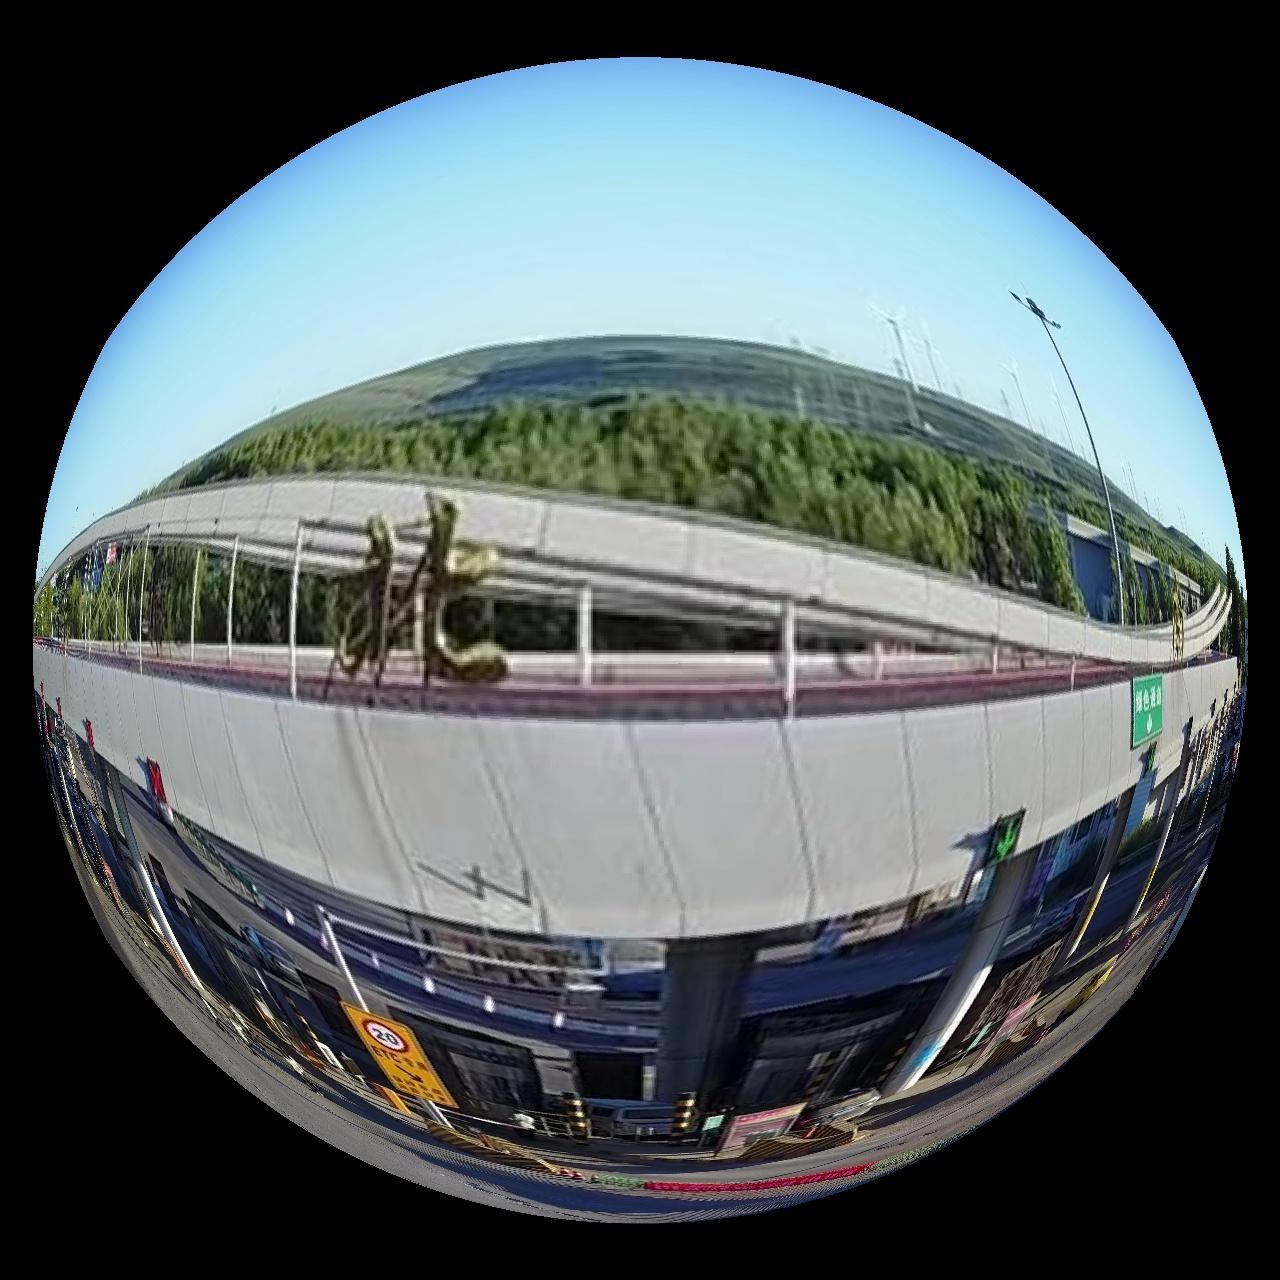building: (33, 477, 1245, 1220)
cars: (585, 1102, 678, 1143)
trees: (159, 335, 1121, 622), (1114, 486, 1219, 625)
